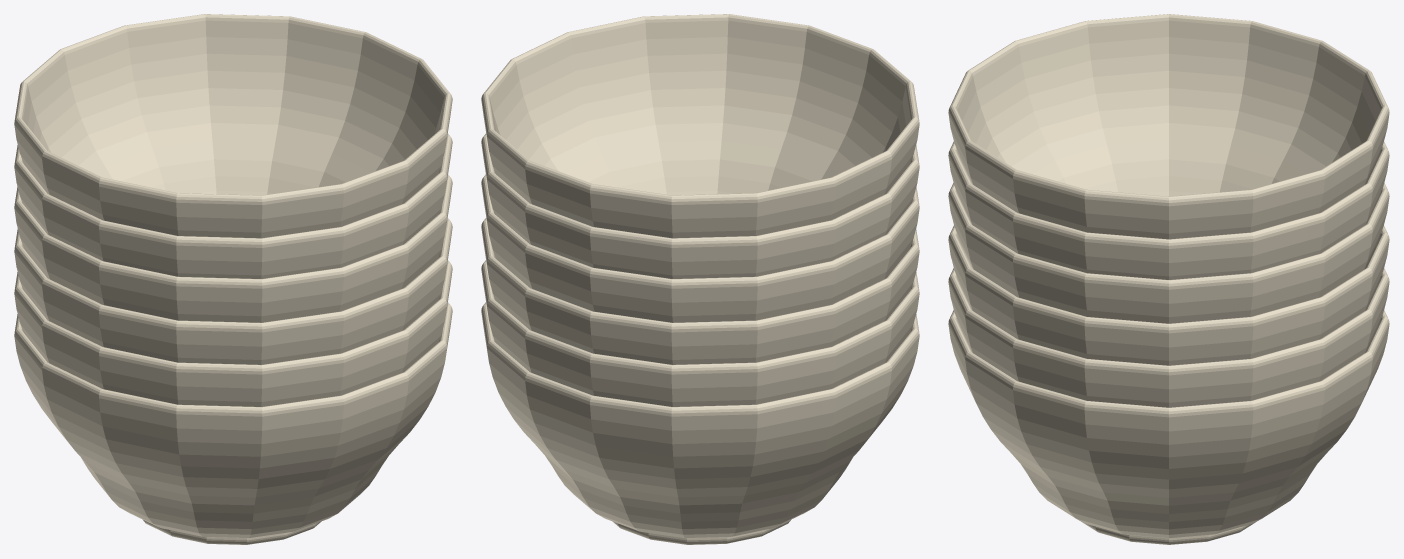
File: miski.fbx
The picture shows the model from 3 angles, left to right: view 1: azimuth 30°, elevation 25°; view 2: azimuth 150°, elevation 25°; view 3: azimuth 270°, elevation 25°; orthographic projection.
Visible parts, largest first — view 1: Rectangle3; view 2: Rectangle3; view 3: Rectangle3.
Boxes of the visible parts, x1,y1,x2,y2 form: Rectangle3: (14,14,452,544); Rectangle3: (481,14,919,544); Rectangle3: (948,14,1389,544).
Size of the model in its own units: 22.2 by 22.11 by 22.2.
